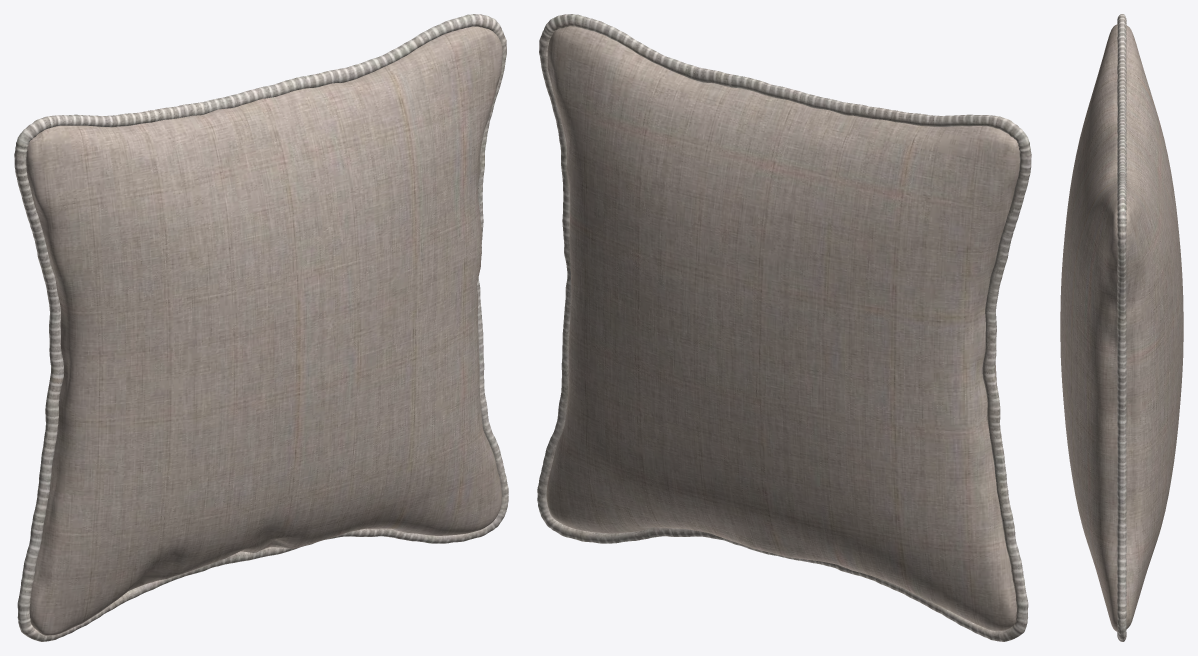
The model's file is B079TXJCR5.glb.
The picture shows the model from 3 angles, left to right: view 1: azimuth 30°, elevation 25°; view 2: azimuth 150°, elevation 25°; view 3: azimuth 270°, elevation 25°; orthographic projection. The views are drawn at different scales.
Visible parts, largest first — view 1: RootNode; view 2: RootNode; view 3: RootNode.
Boxes of the visible parts, x1=… form: RootNode: x1=14, y1=14, x2=508, y2=641; RootNode: x1=537, y1=14, x2=1031, y2=641; RootNode: x1=1060, y1=14, x2=1183, y2=641.
Bounding box in the file's own units: 0.4852 × 0.4942 × 0.1243.
1 material, 1 textured.
